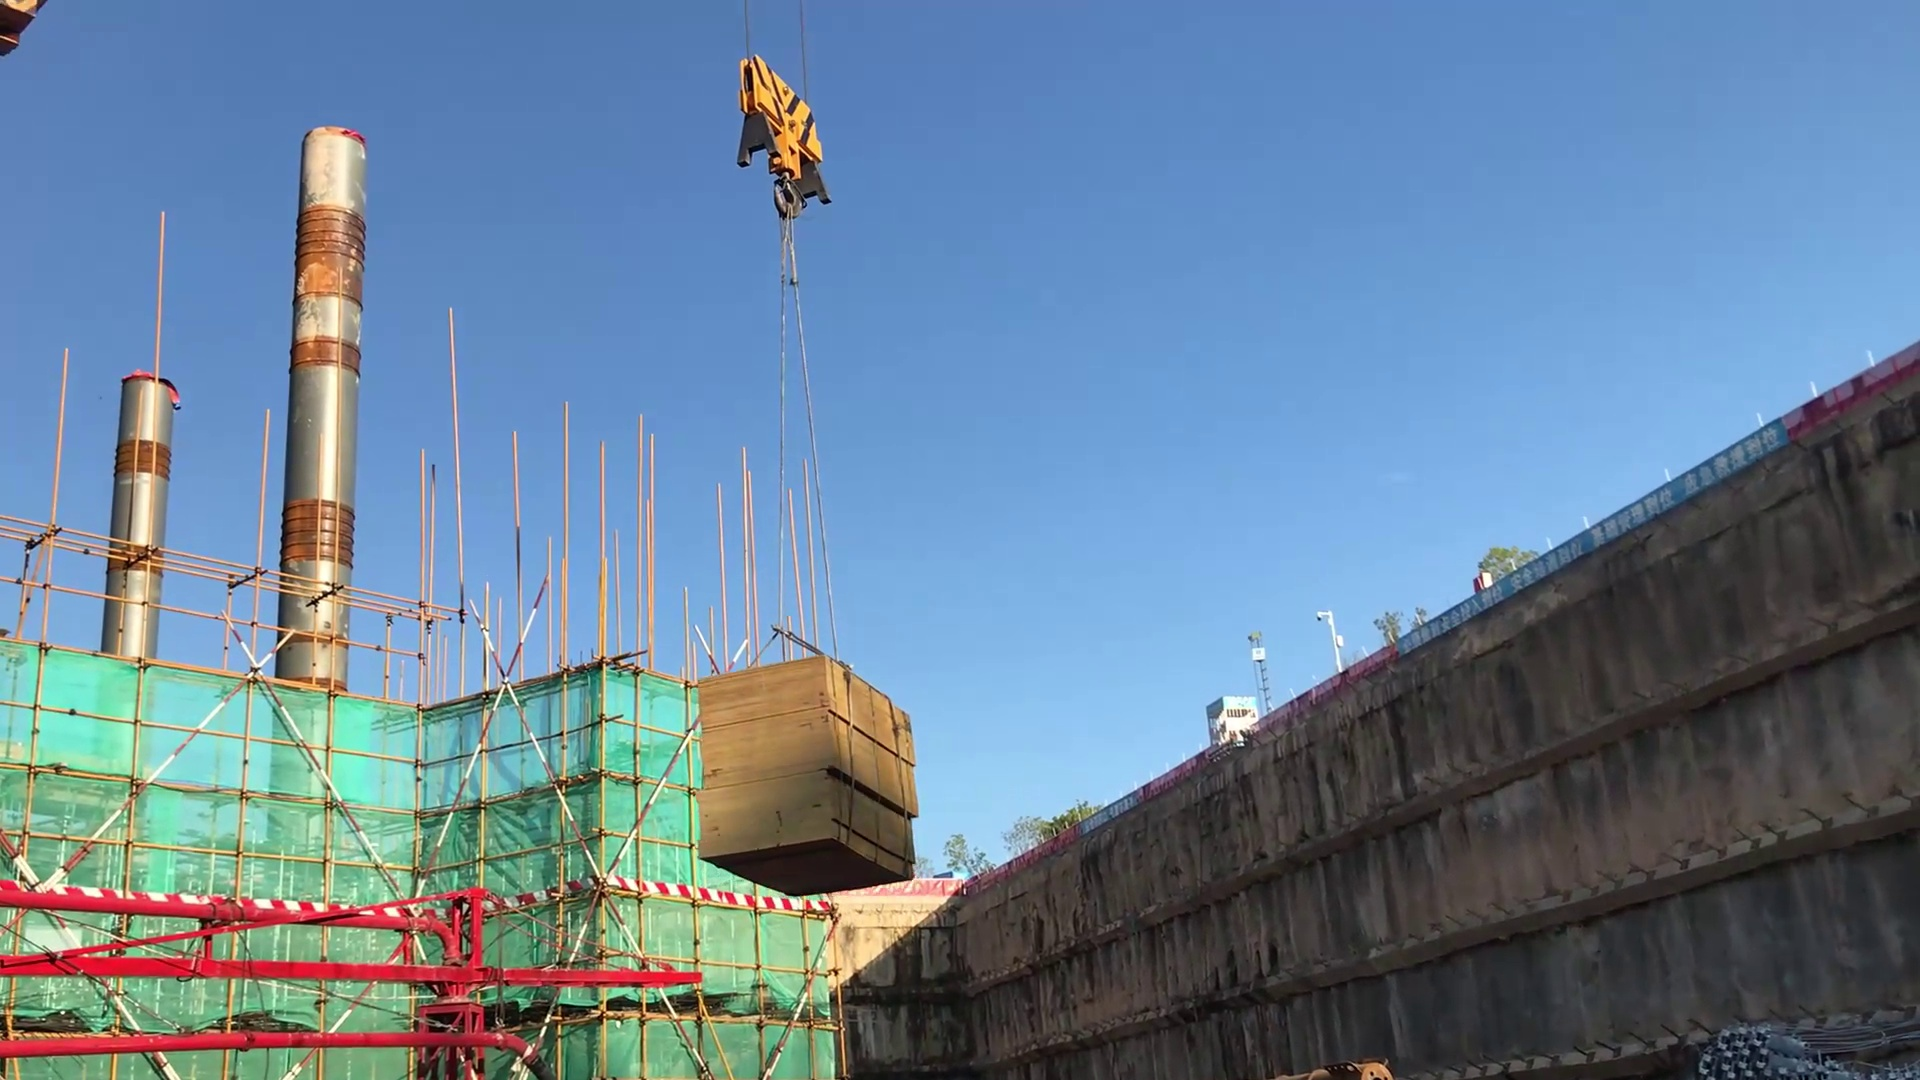board: (694, 659, 924, 899)
hook: (711, 51, 862, 357)
scaffold: (1693, 1009, 1915, 1080)
